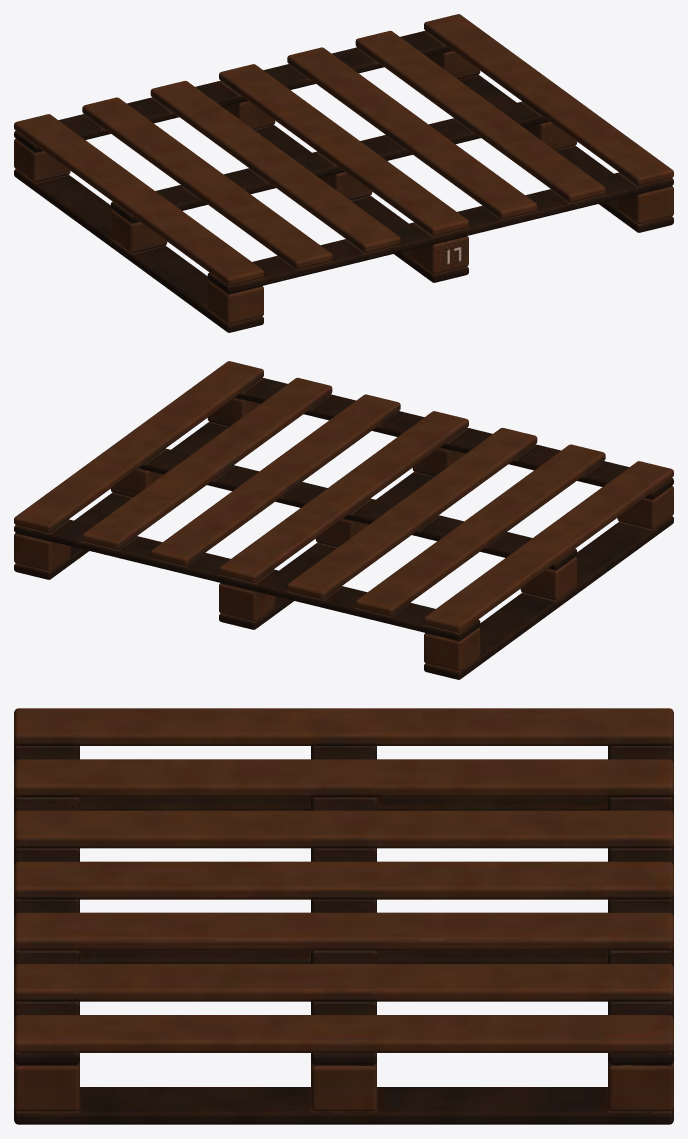
Rendered from pallet.glb.
3 renders of one model, top to bottom at view 1: azimuth 30°, elevation 25°; view 2: azimuth 150°, elevation 25°; view 3: azimuth 270°, elevation 25°, orthographic. The views are drawn at different scales.
Parts seen in each view (by area): view 1: pallet; view 2: pallet; view 3: pallet.
Boxes of the visible parts, bbox=[...] form: pallet: bbox=[14, 14, 673, 332]; pallet: bbox=[14, 361, 673, 679]; pallet: bbox=[14, 708, 673, 1124].
Size of the model in its own units: 1.2 by 0.142 by 1.
Materials: 1 (1 with a texture image).
